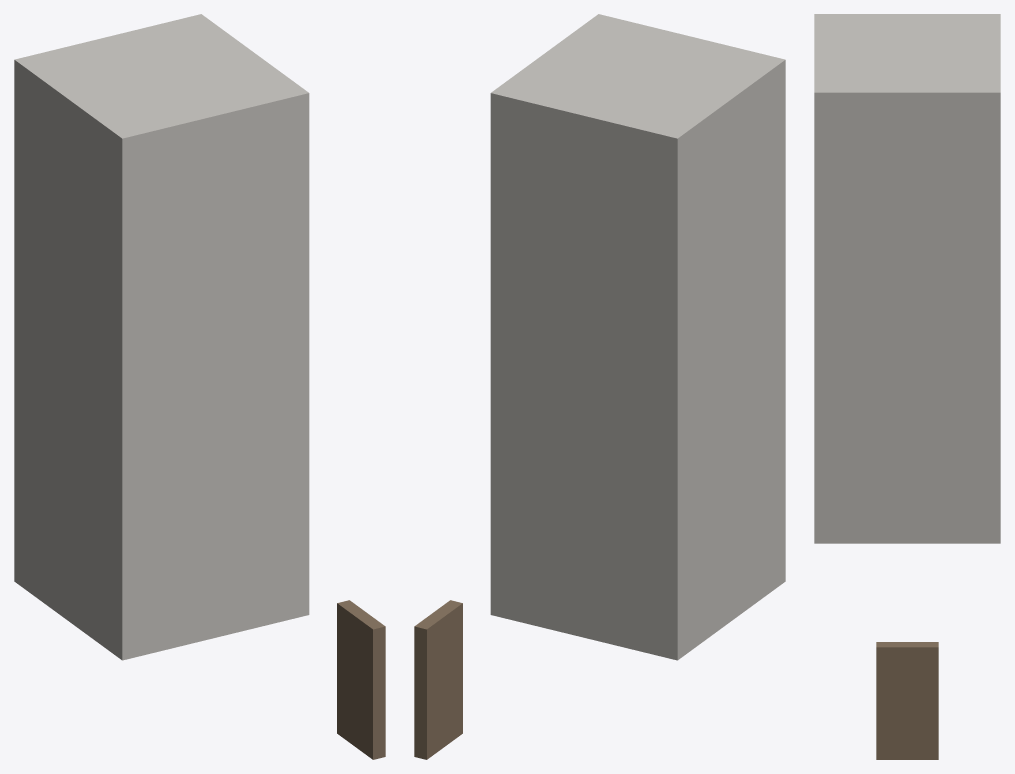
File: building_watchtower.glb
The picture shows the model from 3 angles, left to right: view 1: azimuth 30°, elevation 25°; view 2: azimuth 150°, elevation 25°; view 3: azimuth 270°, elevation 25°; orthographic projection. The views are drawn at different scales.
Visible parts, largest first — view 1: building_watchtower; view 2: building_watchtower; view 3: building_watchtower.
Part boxes in pixels (x1,y1,x2,y2): building_watchtower: [14, 14, 385, 759]; building_watchtower: [414, 14, 785, 759]; building_watchtower: [814, 14, 1000, 759].
Size of the model in its own units: 2.4 by 5.5 by 1.5.
